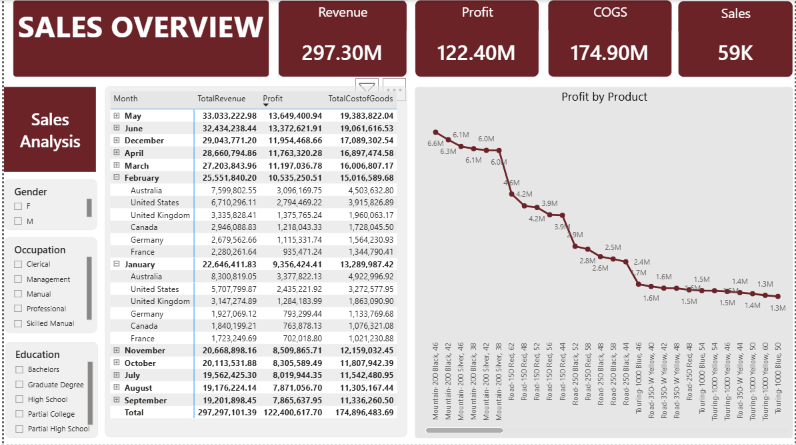

What the dashboard file says about the page in this screenshot:
{"tool":"powerbi","page":{"name":"Sales Overview","canvas":[1280,720],"ordinal":0},"visuals":[{"type":"cardVisual","title":"Sales","fields":{"Data":["SalesTable.TotalSales"]},"box":[1091.4,1.6,186.2,123.1],"z":0},{"type":"cardVisual","title":"COGS","fields":{"Data":["SalesTable.TotalCostofGoods"]},"box":[880.1,0,200.8,124.7],"z":1000},{"type":"cardVisual","title":"Revenue","fields":{"Data":["SalesTable.TotalRevenue"]},"box":[442.9,0,208.9,124.7],"z":2000},{"type":"cardVisual","title":"Profit","fields":{"Data":["SalesTable.Profit"]},"box":[665.5,0,200.8,124.7],"z":3000},{"type":"pivotTable","fields":{"Rows":["SalesTable.OrderDate.Variation.Date Hierarchy.Month","Geography.Country"],"Values":["SalesTable.TotalRevenue","SalesTable.Profit","SalesTable.TotalCostofGoods"]},"box":[163.5,139.3,489,568.3],"z":4000},{"type":"lineChart","fields":{"Category":["Product.Product"],"Y":["SalesTable.Profit"]},"box":[665.5,140.9,612.1,568.3],"z":5000},{"type":"textbox","box":[14.6,0,414.5,124.7],"z":6000},{"type":"slicer","fields":{"Values":["Customer.Gender"]},"box":[0,289.8,150.6,82.6],"z":7000},{"type":"slicer","fields":{"Values":["Customer.Occupation"]},"box":[0,383.8,150.6,155.4],"z":8000},{"type":"slicer","fields":{"Values":["Customer.Education"]},"box":[1.6,553.8,150.6,155.4],"z":9000},{"type":"actionButton","box":[0,140.9,149,137.6],"z":10000}]}

Visuals, with their boxes in screenshot pixels (x1, y1, x2, y2), scaled from the page's 1280x720 canvas onto the 796x445 screenshot:
"Sales" cardVisual: 679/1/795/77
"COGS" cardVisual: 547/0/672/77
"Revenue" cardVisual: 275/0/405/77
"Profit" cardVisual: 414/0/539/77
pivotTable - SalesTable.OrderDate.Variation.Date Hierarchy.Month x Geography.Country: 102/86/406/437
lineChart - Product.Product x SalesTable.Profit: 414/87/795/438
textbox: 9/0/267/77
slicer - Customer.Gender: 0/179/94/230
slicer - Customer.Occupation: 0/237/94/333
slicer - Customer.Education: 1/342/95/438
actionButton: 0/87/93/172
